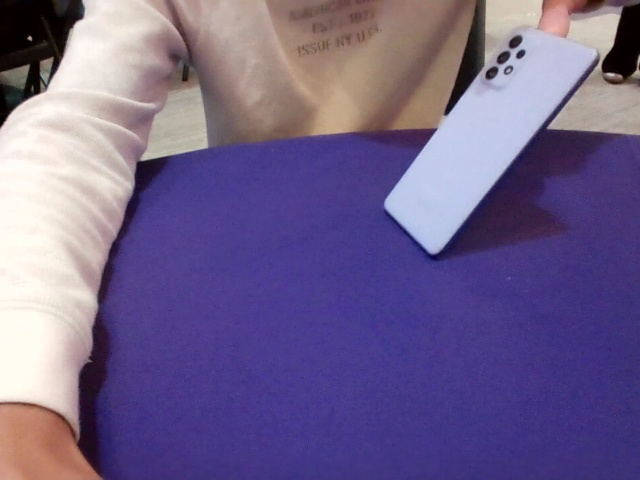celular: (383, 25, 599, 255)
